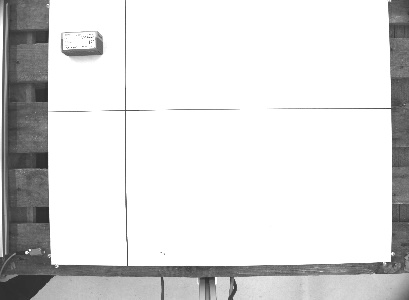b3: (59, 28, 105, 58)
